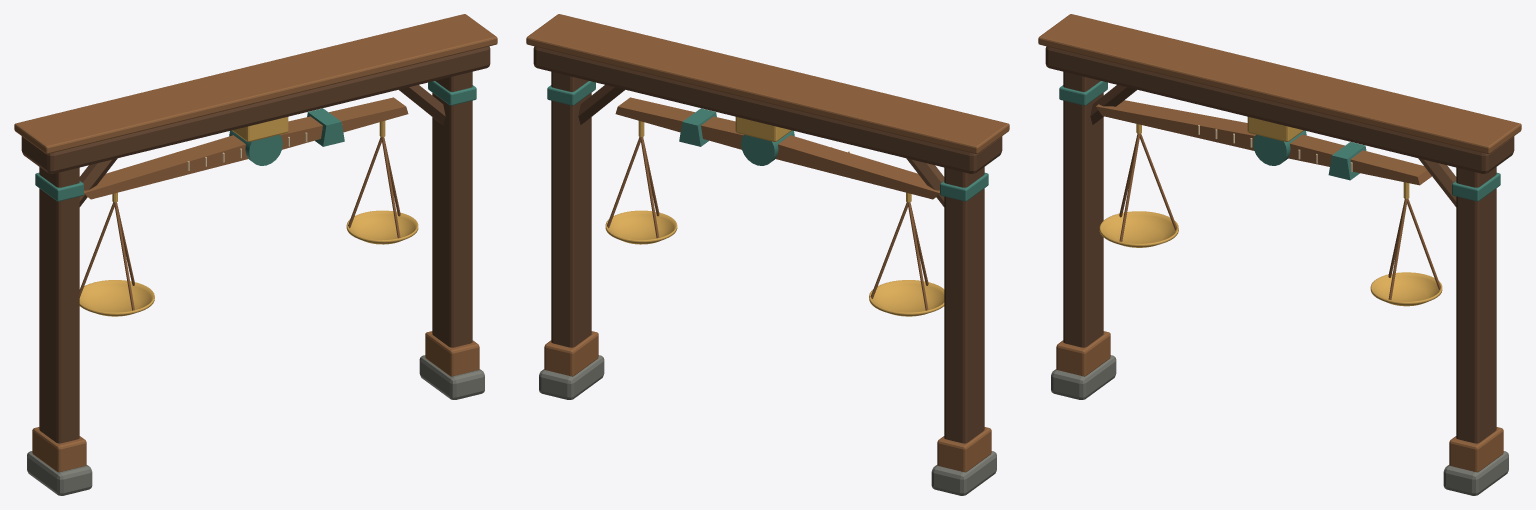
File: artifact-weighbeam.glb
3 views of the same model, side by side, from view 1: azimuth 30°, elevation 25°; view 2: azimuth 150°, elevation 25°; view 3: azimuth 330°, elevation 25° (orthographic).
Parts seen in each view (by area): view 1: Lintel flashing, Balance post, Balance post.001, Market beam, Steelyard arm, Beaten scale pan, Beaten scale pan.001, Scale pier shoe.001, Scale pier shoe, Scale pier foot.001, Scale pier foot, Weighbeam fulcrum (+6 smaller); view 2: Lintel flashing, Balance post, Balance post.001, Market beam, Steelyard arm, Beaten scale pan, Beaten scale pan.001, Scale pier shoe.001, Scale pier shoe, Scale pier foot.001, Scale pier foot, Weighbeam fulcrum (+6 smaller); view 3: Lintel flashing, Balance post.001, Market beam, Balance post, Steelyard arm, Beaten scale pan, Beaten scale pan.001, Scale pier shoe, Scale pier shoe.001, Scale pier foot, Scale pier foot.001, Weighbeam fulcrum (+6 smaller).
Part boxes in pixels (<box>): Lintel flashing: <box>14,14,497,153</box>; Balance post: <box>39,167,79,443</box>; Balance post.001: <box>432,71,472,347</box>; Market beam: <box>21,46,490,173</box>; Steelyard arm: <box>84,97,408,199</box>; Beaten scale pan: <box>79,280,154,316</box>; Beaten scale pan.001: <box>346,210,418,244</box>; Scale pier shoe.001: <box>425,331,479,376</box>; Scale pier shoe: <box>32,427,86,472</box>; Scale pier foot.001: <box>419,355,484,399</box>; Scale pier foot: <box>27,451,92,495</box>; Weighbeam fulcrum: <box>229,130,282,165</box>; Lintel flashing: <box>526,14,1009,153</box>; Balance post: <box>944,167,984,443</box>; Balance post.001: <box>551,71,591,347</box>; Market beam: <box>533,46,1002,173</box>; Steelyard arm: <box>615,97,939,199</box>; Beaten scale pan: <box>869,280,944,316</box>; Beaten scale pan.001: <box>605,210,677,244</box>; Scale pier shoe.001: <box>544,331,598,376</box>; Scale pier shoe: <box>937,427,991,472</box>; Scale pier foot.001: <box>539,355,604,399</box>; Scale pier foot: <box>931,451,996,495</box>; Weighbeam fulcrum: <box>741,130,794,165</box>; Lintel flashing: <box>1038,14,1521,153</box>; Balance post.001: <box>1456,167,1496,443</box>; Market beam: <box>1045,46,1514,173</box>; Balance post: <box>1063,71,1103,347</box>; Steelyard arm: <box>1096,100,1431,185</box>; Beaten scale pan: <box>1099,211,1178,247</box>; Beaten scale pan.001: <box>1370,272,1442,306</box>; Scale pier shoe: <box>1056,331,1110,376</box>; Scale pier shoe.001: <box>1449,427,1503,472</box>; Scale pier foot: <box>1051,355,1116,399</box>; Scale pier foot.001: <box>1443,451,1508,495</box>; Weighbeam fulcrum: <box>1253,130,1306,165</box>.
Bounding box in the file's own units: 4.14 × 3.1 × 0.63.
